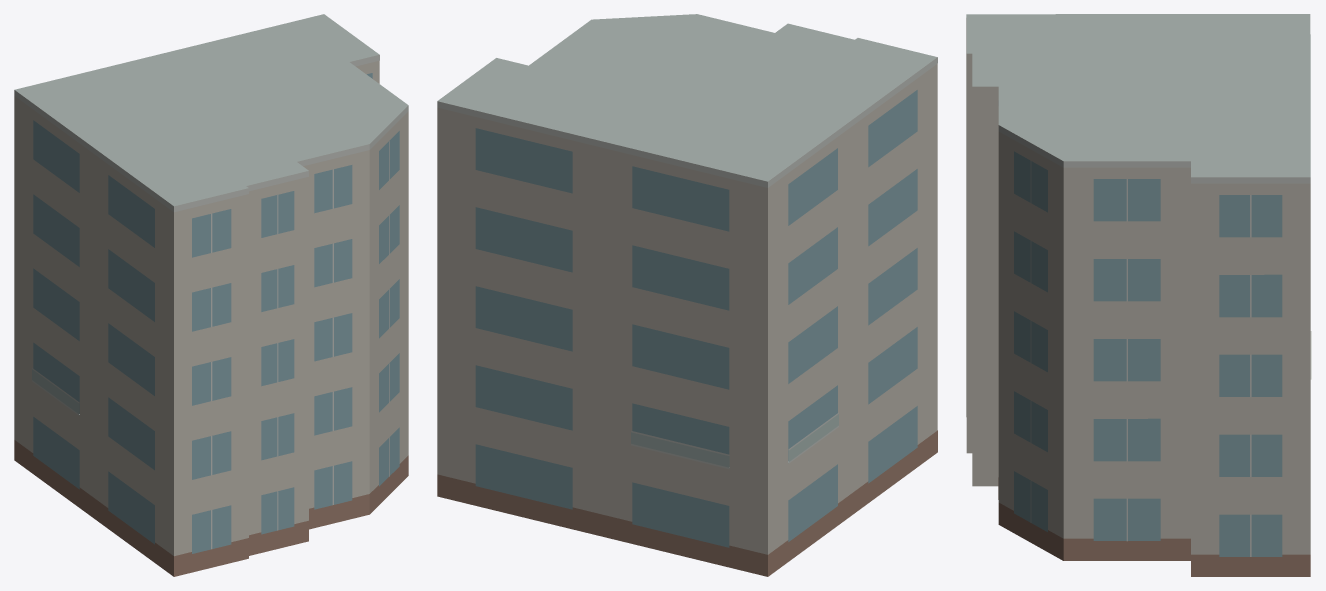
Rendered from survey-upis-32959274.glb.
The picture shows the model from 3 angles, left to right: view 1: azimuth 30°, elevation 25°; view 2: azimuth 150°, elevation 25°; view 3: azimuth 270°, elevation 25°; orthographic projection. The views are drawn at different scales.
Parts seen in each view (by area): view 1: survey-upis-32959274.tmp; view 2: survey-upis-32959274.tmp; view 3: survey-upis-32959274.tmp.
Part boxes in pixels (x1,y1,x2,y2): survey-upis-32959274.tmp: (14,14,408,576); survey-upis-32959274.tmp: (437,14,937,576); survey-upis-32959274.tmp: (966,14,1311,576).
Size of the model in its own units: 13.35 by 15.2 by 11.91.
